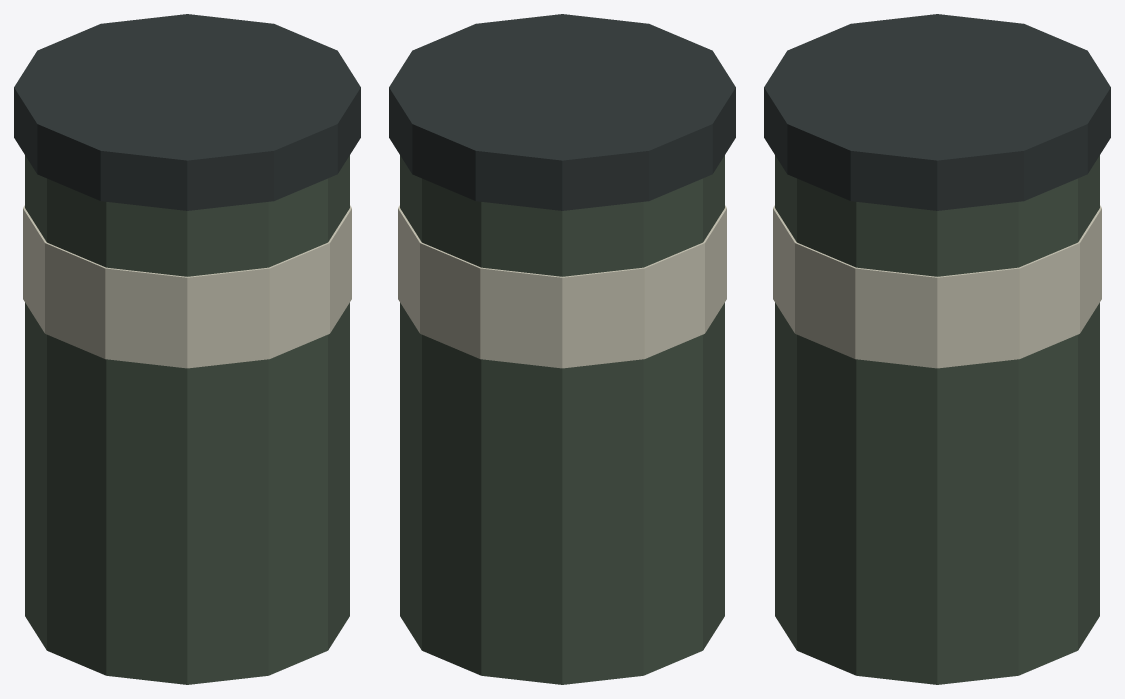
Rendered from smoke_capsule_01.glb.
The picture shows the model from 3 angles, left to right: view 1: azimuth 30°, elevation 25°; view 2: azimuth 150°, elevation 25°; view 3: azimuth 270°, elevation 25°; orthographic projection.
Visible parts, largest first — view 1: SmokeCapsule, SmokeCapsuleCap, SmokeCapsuleBand; view 2: SmokeCapsule, SmokeCapsuleCap, SmokeCapsuleBand; view 3: SmokeCapsule, SmokeCapsuleCap, SmokeCapsuleBand.
Part boxes in pixels (box(x1,y1,x2,y2)): SmokeCapsule: box(25, 155, 349, 684); SmokeCapsuleCap: box(14, 14, 360, 210); SmokeCapsuleBand: box(23, 205, 351, 368); SmokeCapsule: box(400, 155, 724, 684); SmokeCapsuleCap: box(389, 14, 735, 210); SmokeCapsuleBand: box(398, 205, 726, 368); SmokeCapsule: box(775, 155, 1099, 684); SmokeCapsuleCap: box(764, 14, 1110, 210); SmokeCapsuleBand: box(773, 205, 1101, 368).
Size of the model in its own units: 0.156 by 0.2625 by 0.156.
